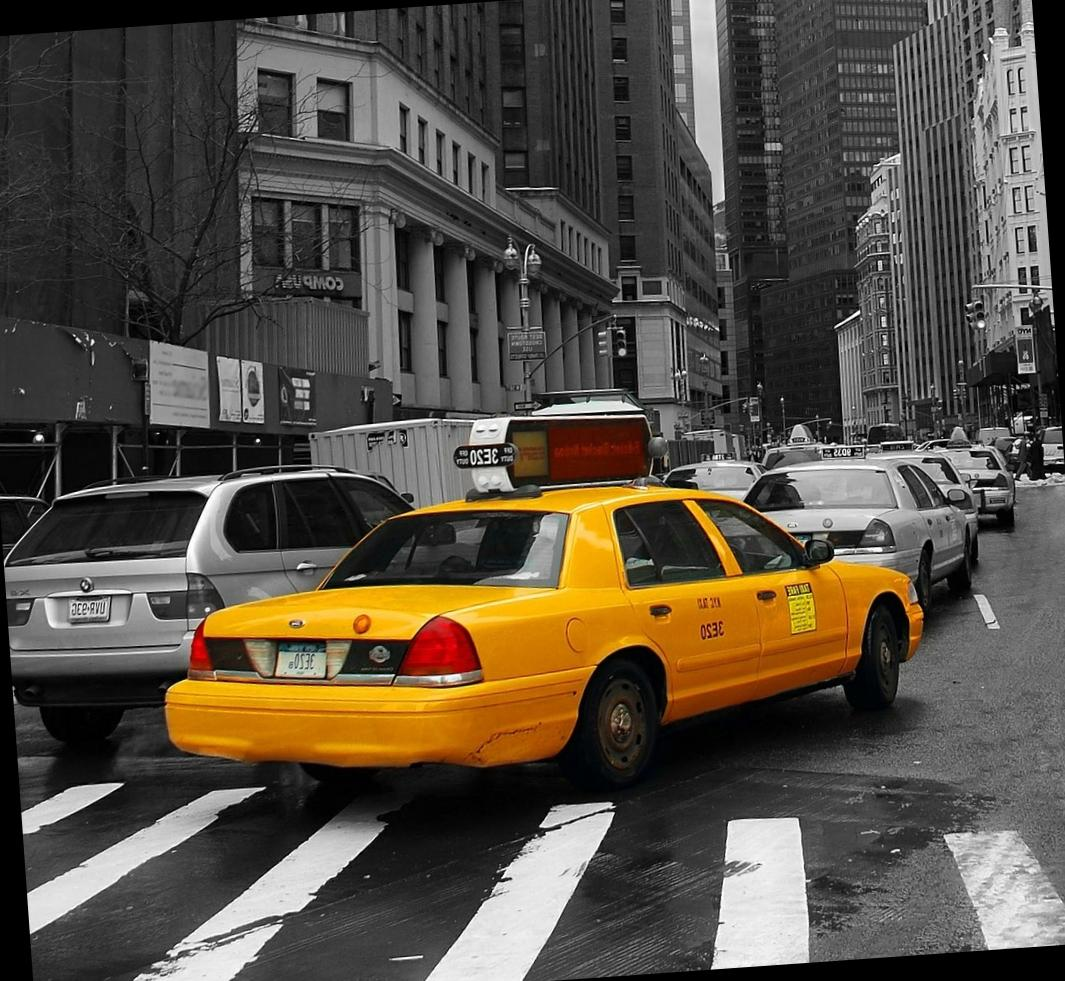taxi: (162, 489, 962, 818)
